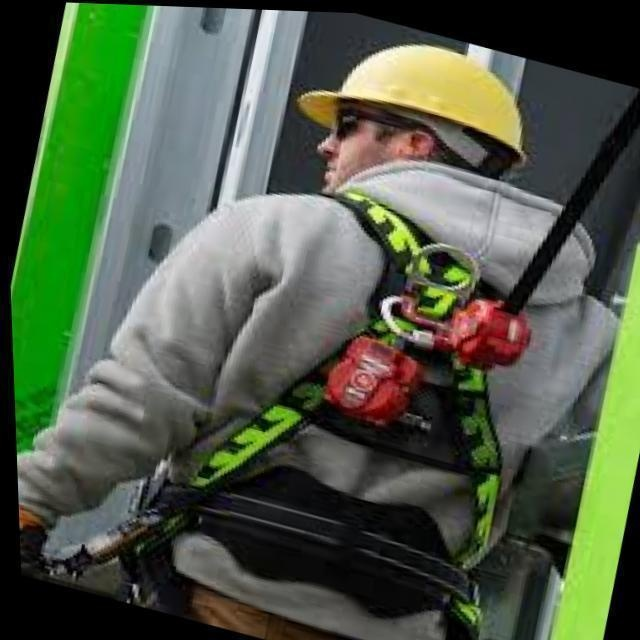Arnes_seguridad: (193, 162, 523, 628)
